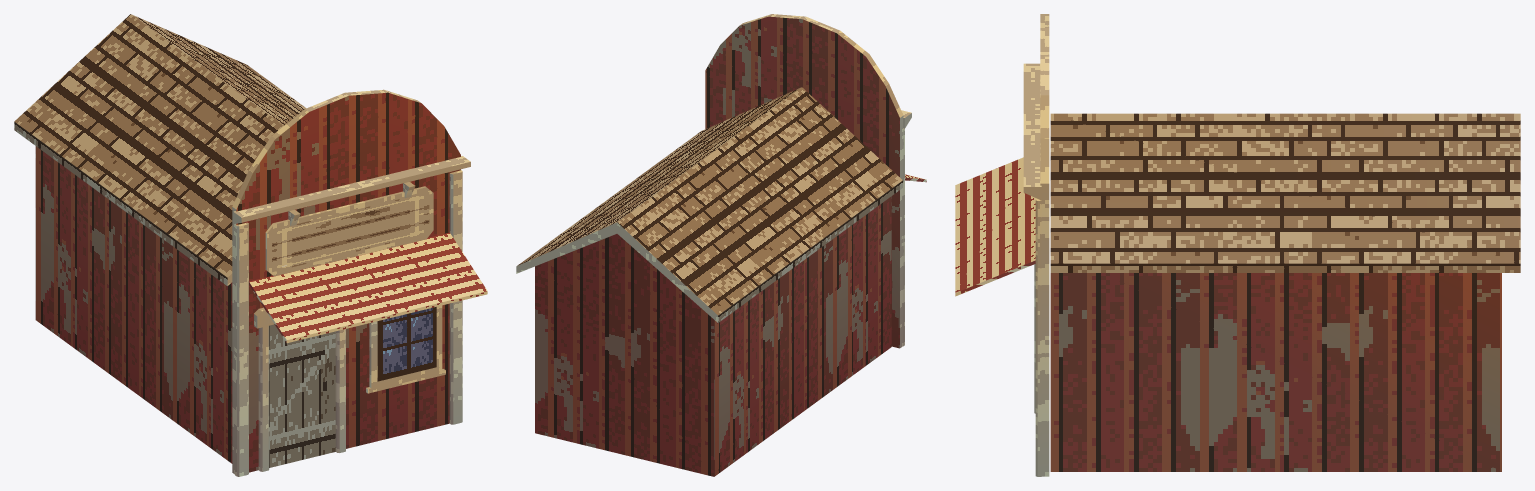
Rendered from wtown.facade__c_arched.glb.
The picture shows the model from 3 angles, left to right: view 1: azimuth 30°, elevation 25°; view 2: azimuth 150°, elevation 25°; view 3: azimuth 270°, elevation 25°; orthographic projection. The views are drawn at different scales.
Parts seen in each view (by area): view 1: kit_roof, kit_body, kit_front, kit_card_panes, kit_trim, kit_awning, kit_windows; view 2: kit_body, kit_roof, kit_front, kit_trim; view 3: kit_body, kit_roof, kit_awning, kit_trim, kit_front.
Boxes of the visible parts, x1=… form: kit_roof: x1=14, y1=14, x2=306, y2=285; kit_body: x1=35, y1=146, x2=232, y2=463; kit_front: x1=232, y1=89, x2=460, y2=474; kit_card_panes: x1=269, y1=192, x2=436, y2=467; kit_trim: x1=233, y1=156, x2=470, y2=476; kit_awning: x1=249, y1=232, x2=487, y2=343; kit_windows: x1=366, y1=305, x2=445, y2=393; kit_body: x1=535, y1=196, x2=891, y2=476; kit_roof: x1=516, y1=87, x2=902, y2=322; kit_front: x1=705, y1=14, x2=903, y2=348; kit_trim: x1=901, y1=110, x2=911, y2=346; kit_body: x1=1050, y1=273, x2=1501, y2=471; kit_roof: x1=1050, y1=113, x2=1520, y2=272; kit_awning: x1=955, y1=157, x2=1035, y2=296; kit_trim: x1=1023, y1=63, x2=1041, y2=476; kit_front: x1=1040, y1=14, x2=1049, y2=476.
Bounding box in the file's own units: 3.94 × 5.7 × 7.52.
Materials: 7 (7 with a texture image).
